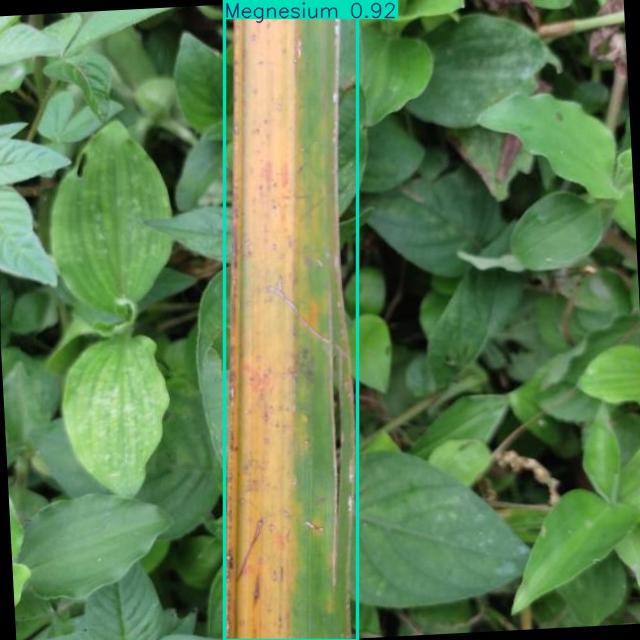Megnesium: (224, 0, 358, 640)
